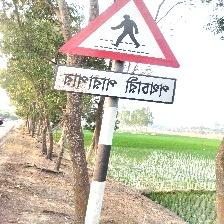Pedestrian-crossing: (54, 0, 182, 107)
